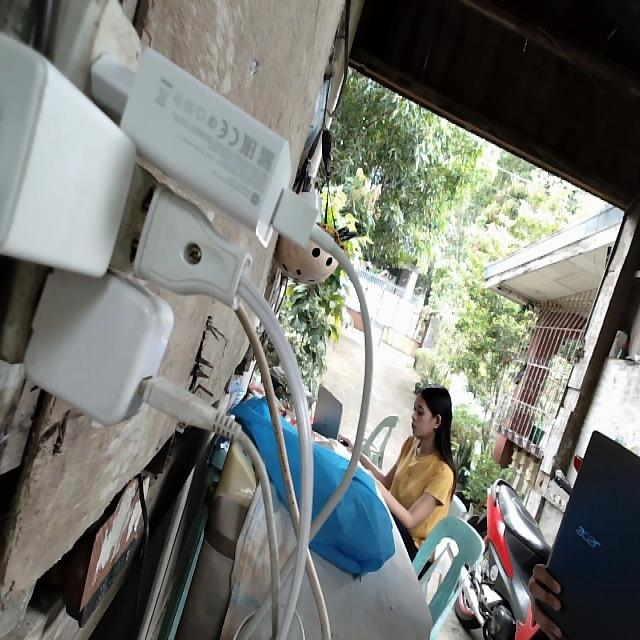-: (0, 0, 305, 441)
